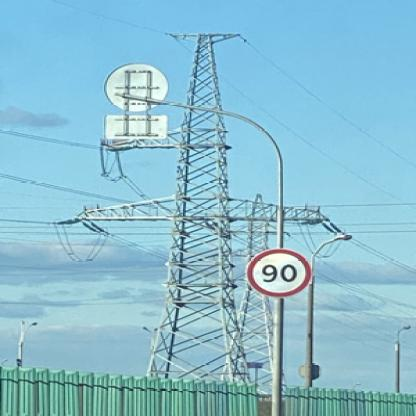speedlimit: (242, 246, 310, 296)
